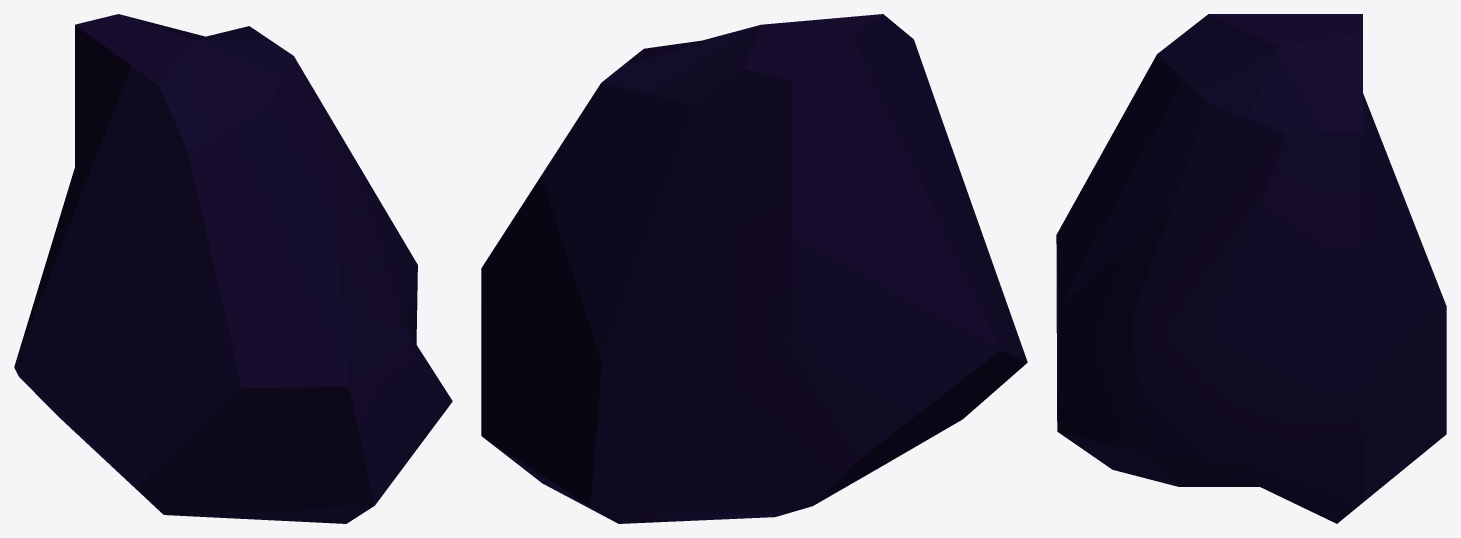
File: Small Oil Rock.fbx
3 renders of one model, left to right at view 1: azimuth 30°, elevation 25°; view 2: azimuth 150°, elevation 25°; view 3: azimuth 270°, elevation 25°, orthographic. The views are drawn at different scales.
Visible parts, largest first — view 1: pCube4; view 2: pCube4; view 3: pCube4.
Boxes of the visible parts, x1,y1,x2,y2 form: pCube4: (14, 14, 452, 523); pCube4: (481, 14, 1027, 523); pCube4: (1056, 14, 1446, 523).
Bounding box in the file's own units: 5.36 × 5.46 × 4.81.
1 material, 1 textured.
